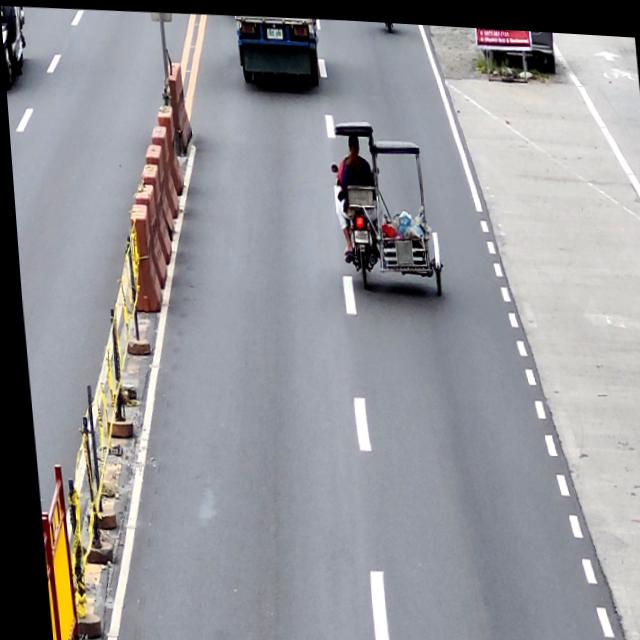License-Plate: (264, 24, 283, 37), (349, 226, 366, 238)
Tricycle: (328, 116, 441, 292)
Truck: (234, 11, 321, 84)
